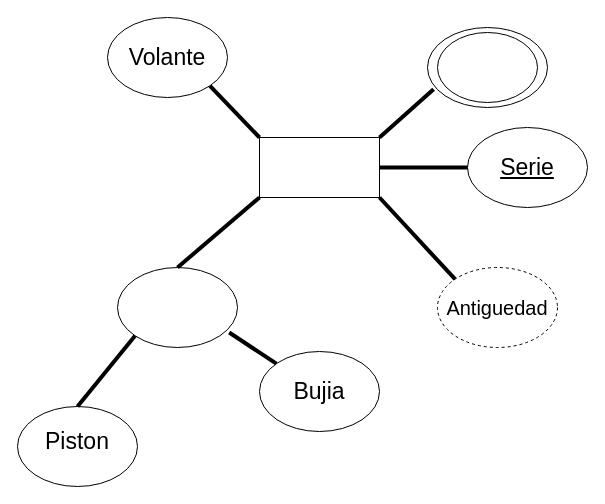
Image size: 605x504. Some labels were removed from this diagram. The shapes that lost their labels are listed below. From the top down, each one's centre as x and y in pixels, then its label:
At point 487,67: "LLantas".
At point 319,167: "Auto".
At point 177,307: "Motor".
